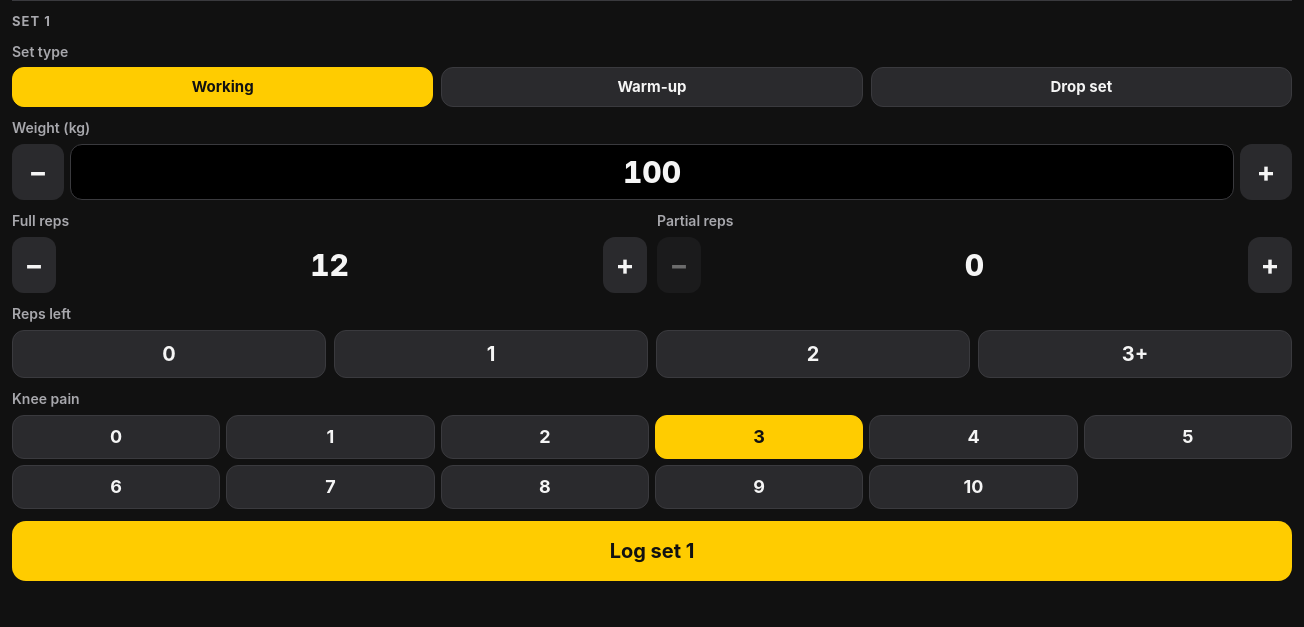
SetRow › rejects a negative weight with a visible error and does not log
Replace the text in the field labelled "Weight (kg)" with "-2" at (652, 172), box x1=70 y1=144 x2=1234 y2=200
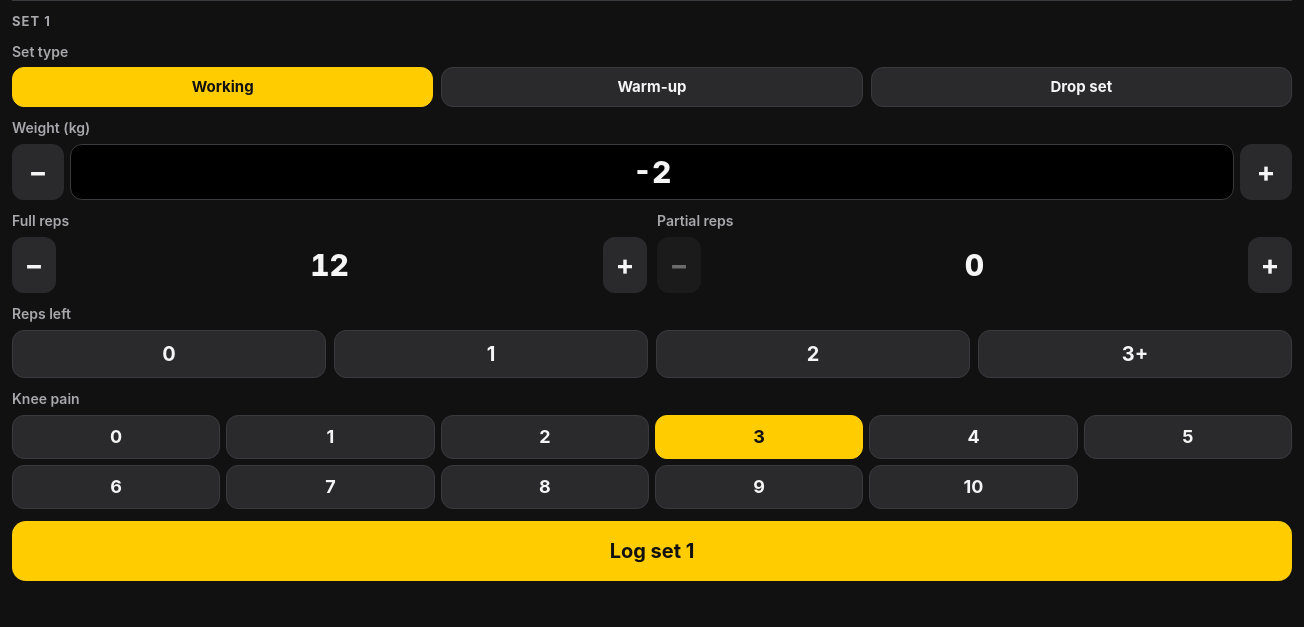
Click the 1st radio button labelled "2".
click(813, 354)  # box x1=656 y1=330 x2=970 y2=378
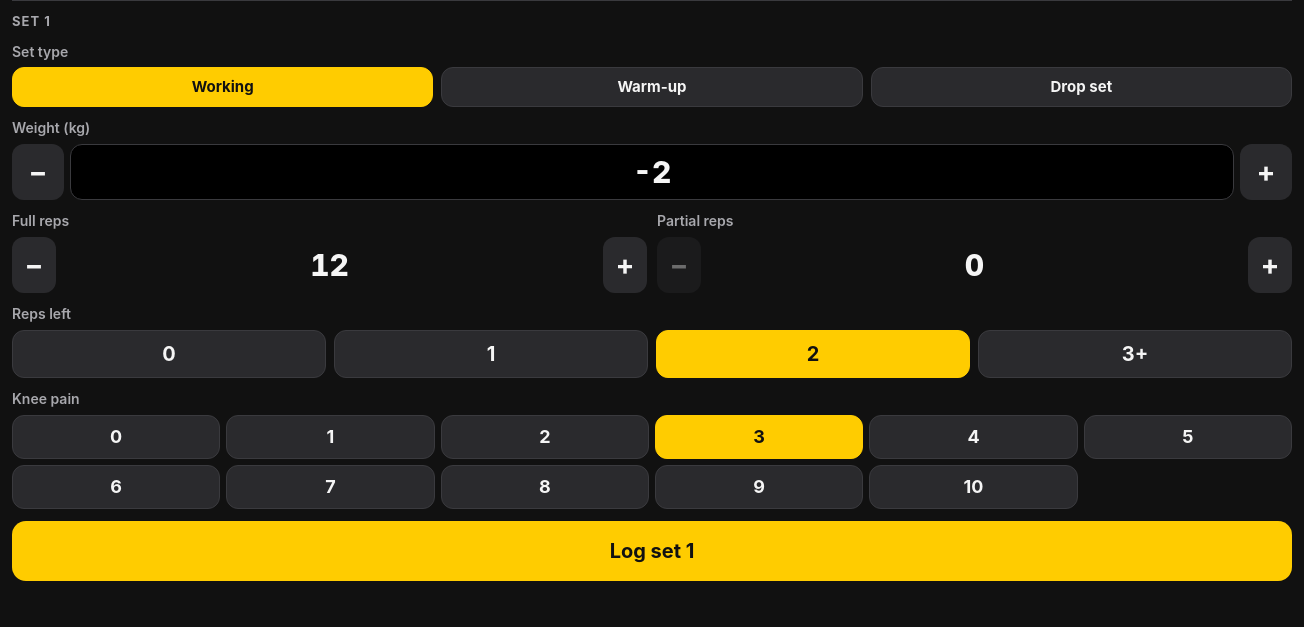
Click the button "Log set 1".
click(652, 551)  # box x1=12 y1=521 x2=1292 y2=581
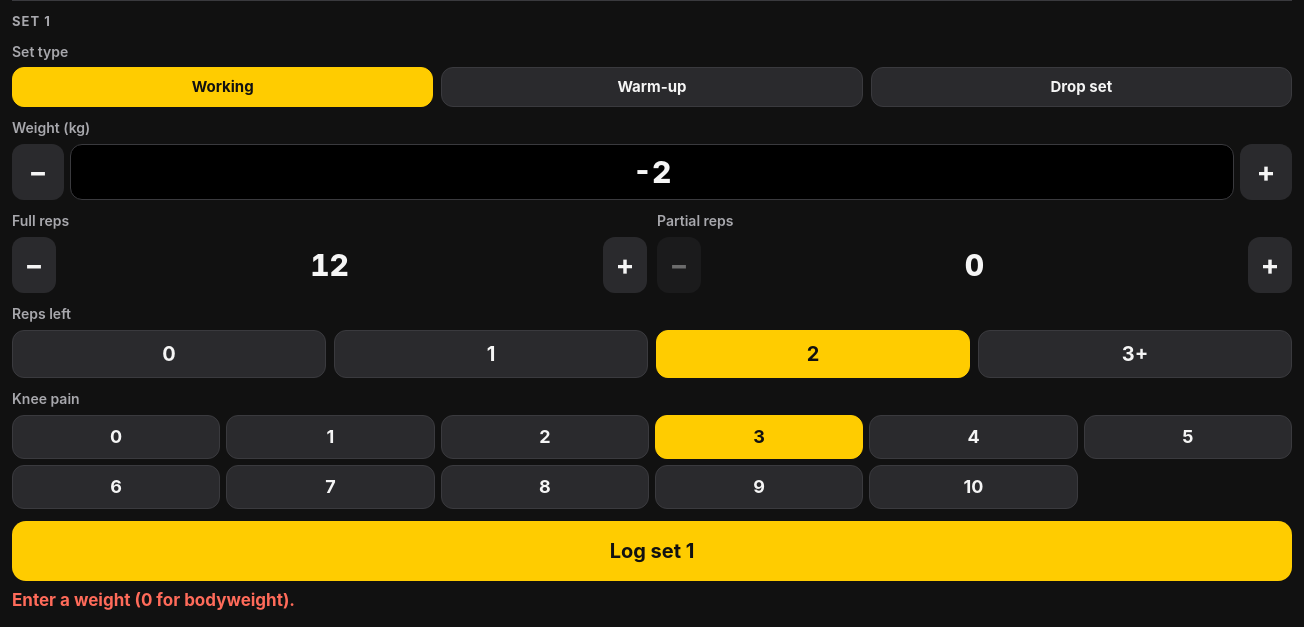
Expected: the message reads "Enter a weight (0 for bodyweight).", x1=12 y1=590 x2=295 y2=610
